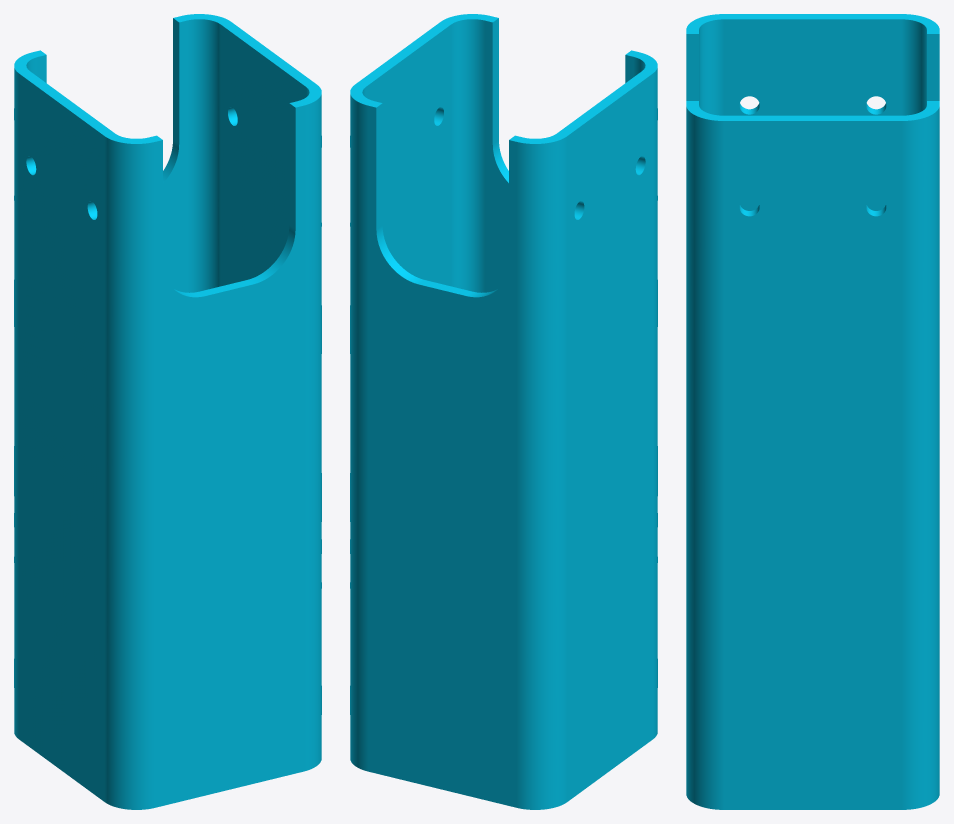
File: crash-box.glb
The picture shows the model from 3 angles, left to right: view 1: azimuth 30°, elevation 25°; view 2: azimuth 150°, elevation 25°; view 3: azimuth 270°, elevation 25°; orthographic projection. The views are drawn at different scales.
Size of the model in its own units: 0.4 by 1.2 by 0.4.
